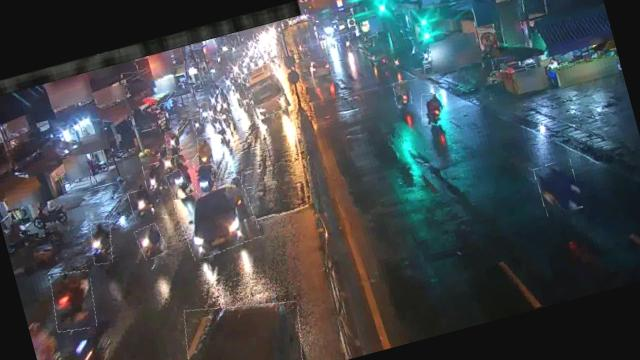Bike: (44, 266, 100, 334), (533, 159, 583, 217), (86, 219, 118, 266), (134, 222, 168, 262), (189, 154, 218, 194), (416, 90, 447, 127), (128, 188, 156, 222), (193, 134, 220, 166), (166, 168, 192, 201), (141, 161, 166, 193), (162, 128, 183, 158), (391, 78, 413, 106), (209, 114, 228, 139), (197, 100, 212, 123), (191, 115, 206, 134)
Bus: (238, 61, 292, 121)
Car: (174, 286, 312, 360), (172, 175, 261, 260)
